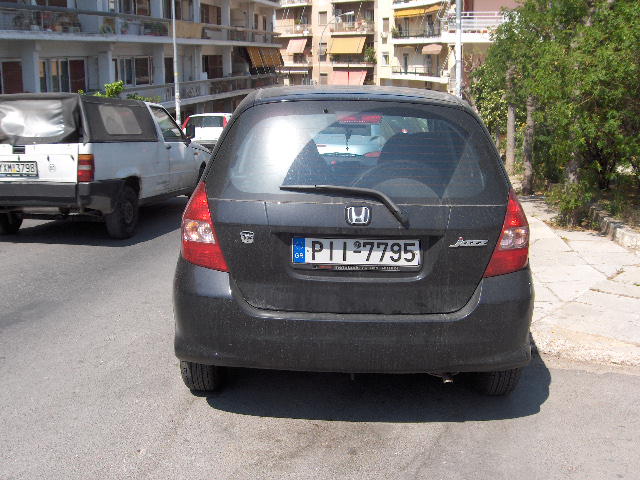licenseplate: (289, 233, 421, 268)
